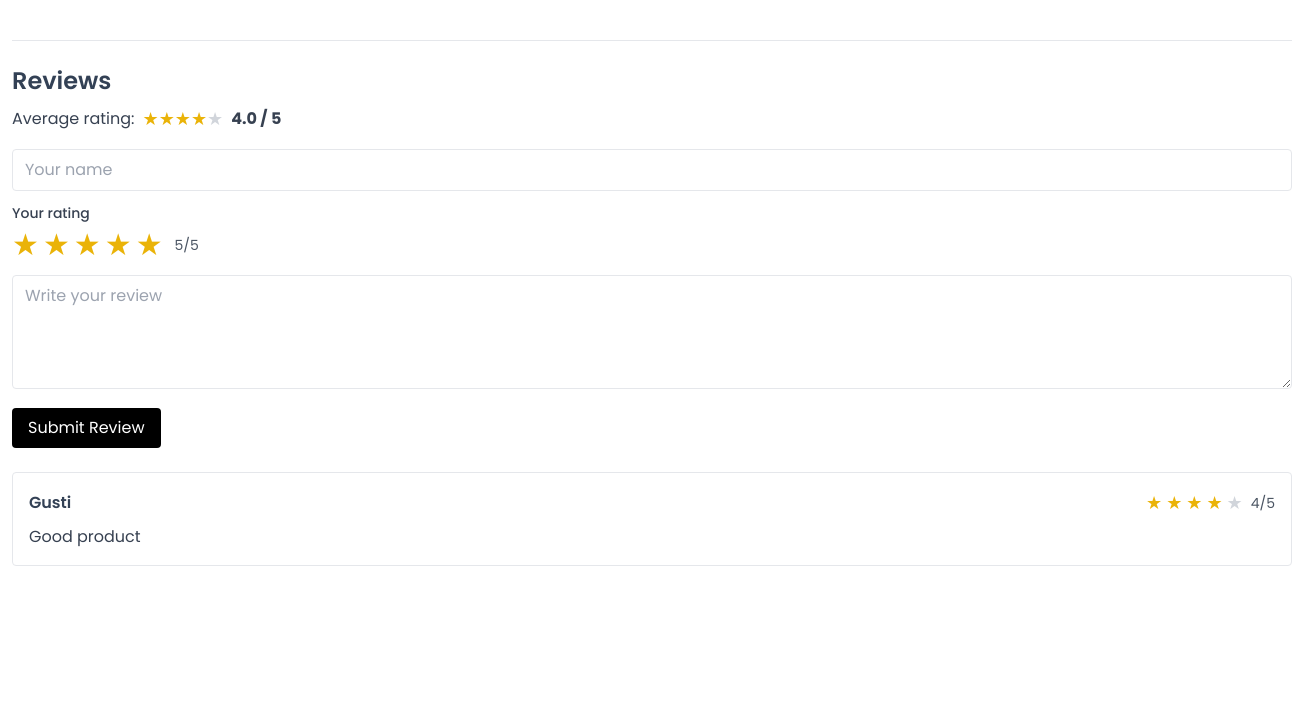
Test: ProductReviews › fetches, displays, validates, and submits reviews
(page scrolled)
Expected: the text "Good product" is shown, [29,525,141,548]
Submit the form, box [12,149,1292,448]
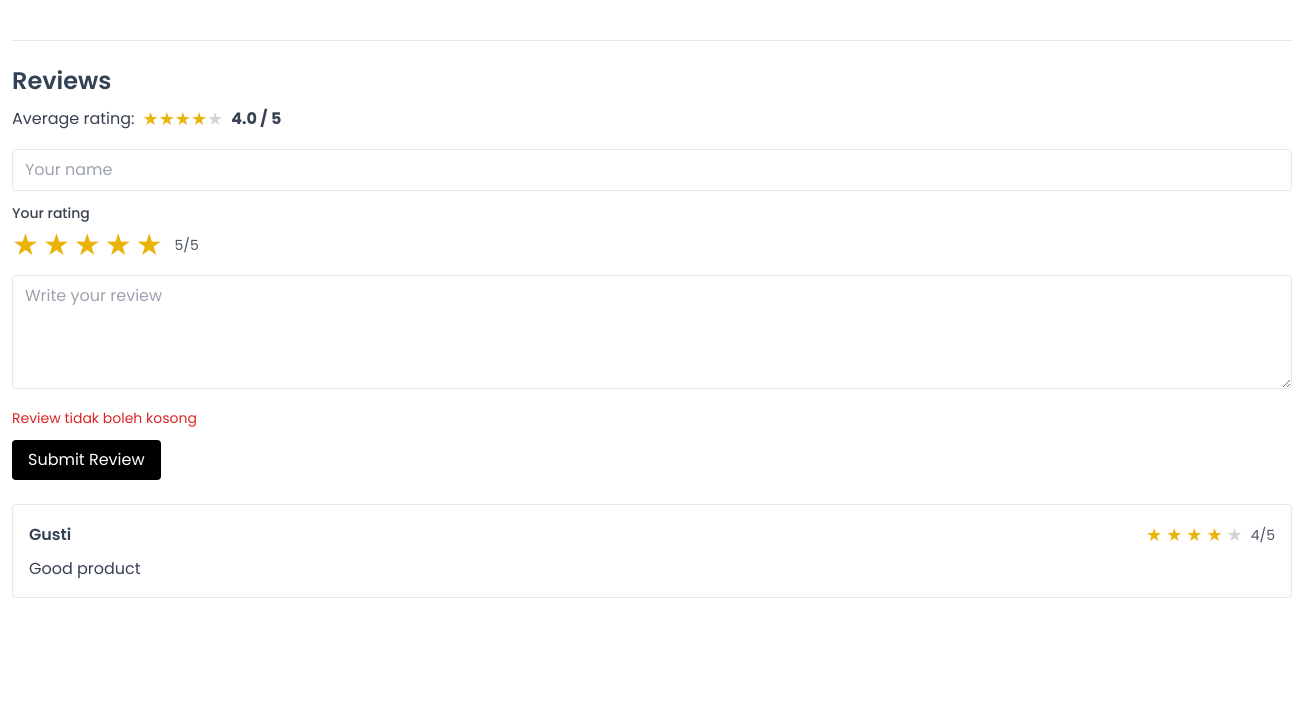
Now the text "Review tidak boleh kosong" is shown, box [12,408,197,428]
Type "Tester" into the field with placeholder "Your name".
click(652, 170); type("Tester")  # box [12,149,1292,191]
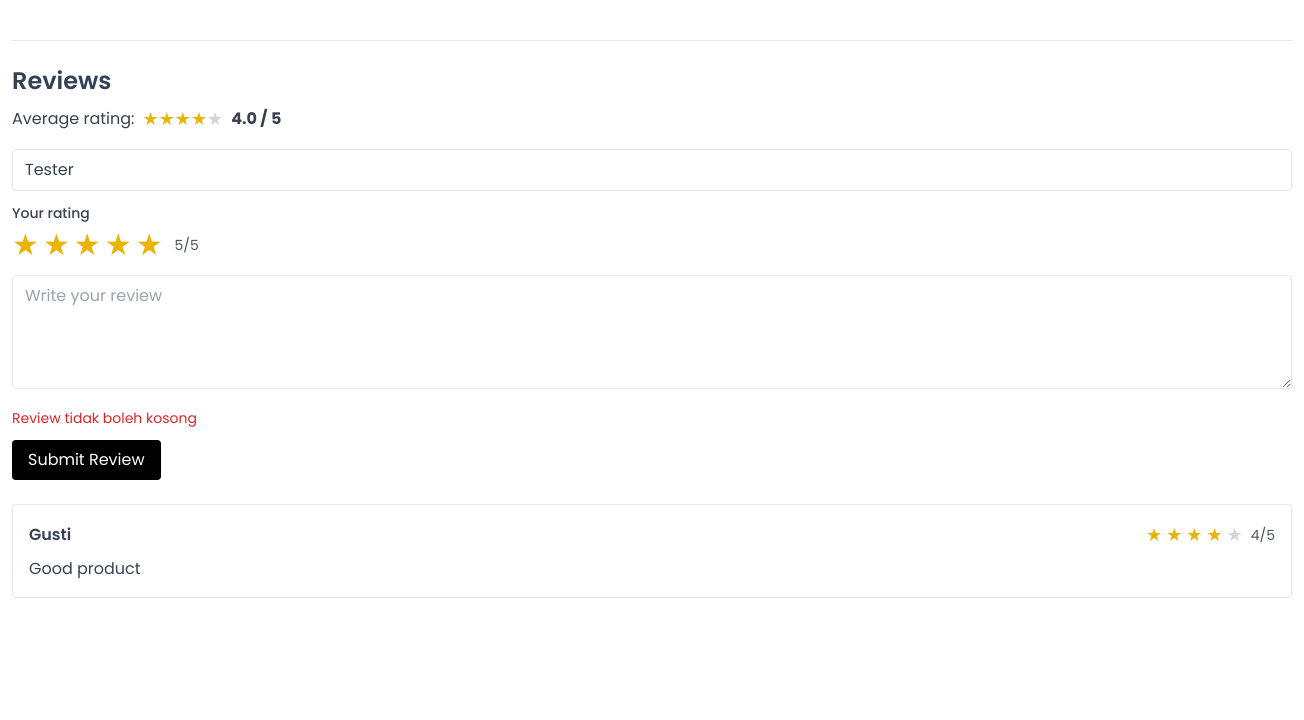
Type "Great" into the text box with placeholder "Write your review".
click(652, 332); type("Great")  # box [12,275,1292,389]
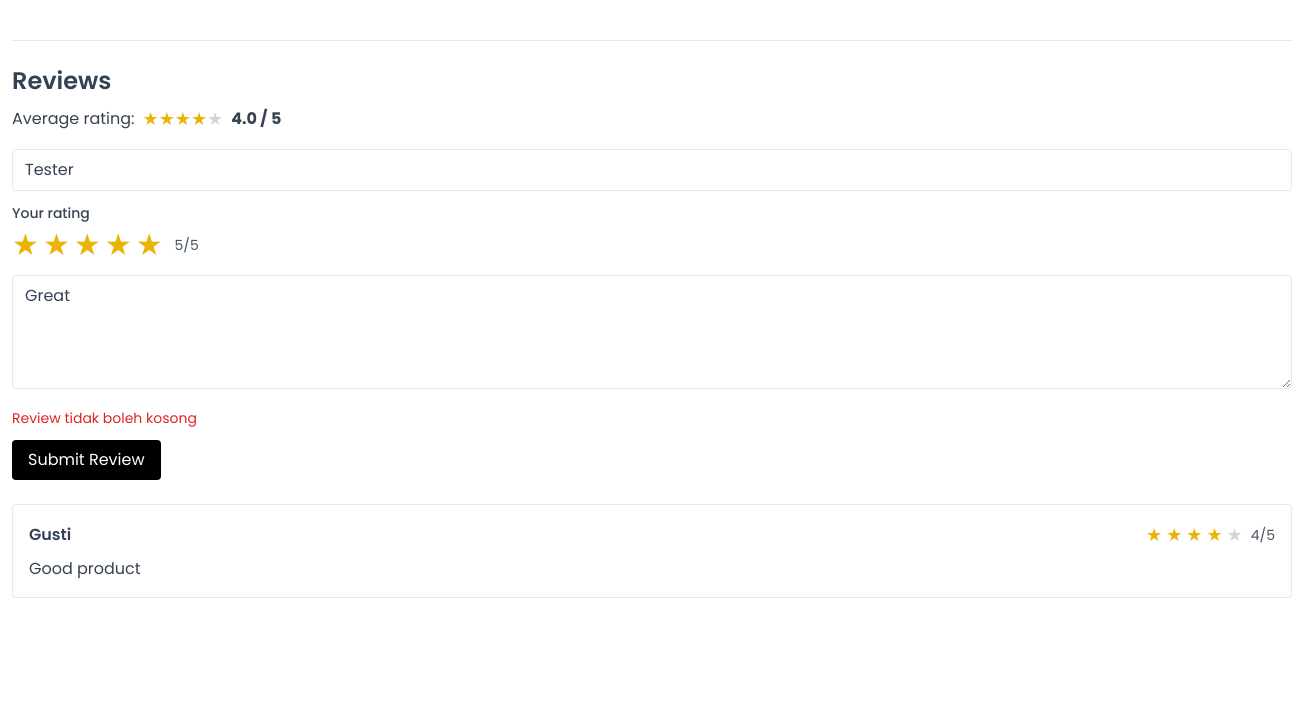
Submit the form, box [12,149,1292,480]
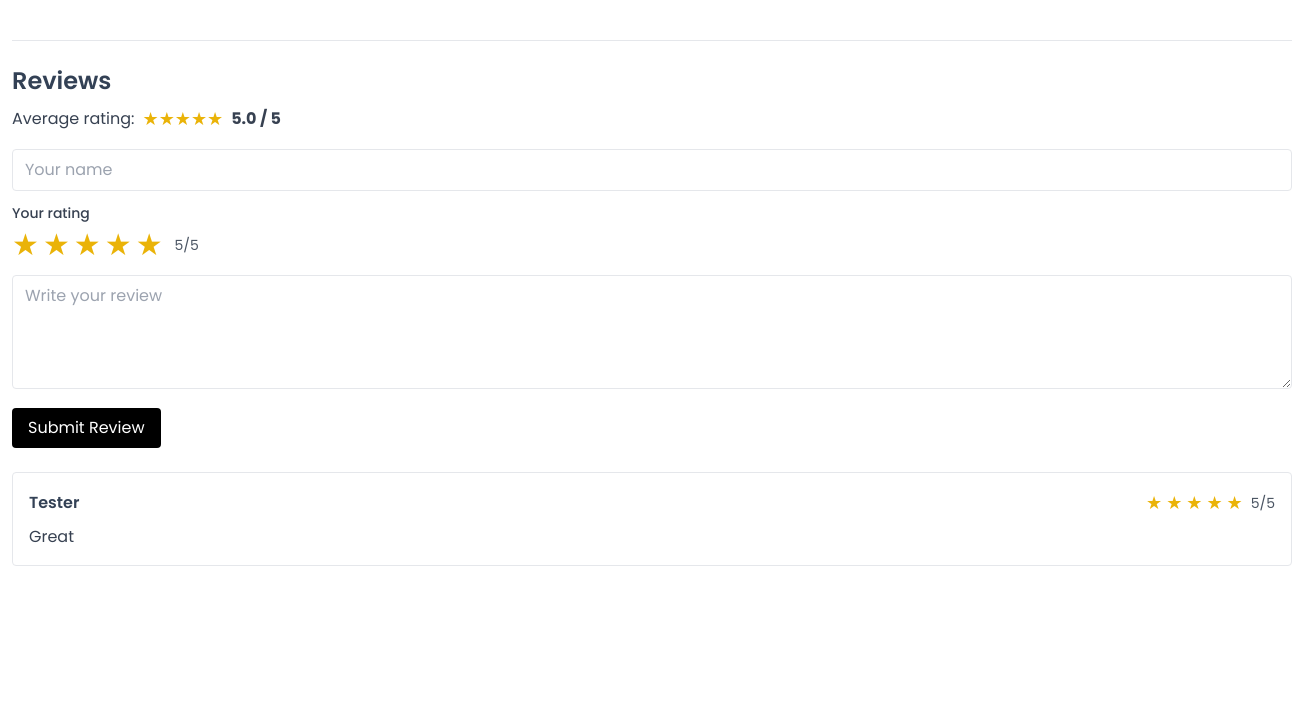
Now the text "Great" is shown, box [29,525,74,548]
